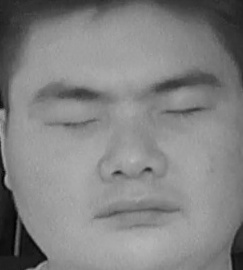blink: (48, 105, 102, 135), (163, 93, 211, 125)
mouth: (92, 188, 182, 237)
